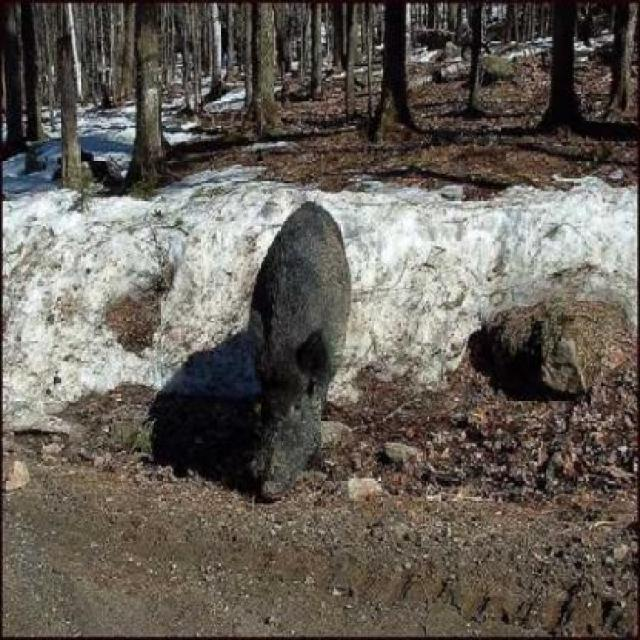pig: (212, 200, 370, 497)
